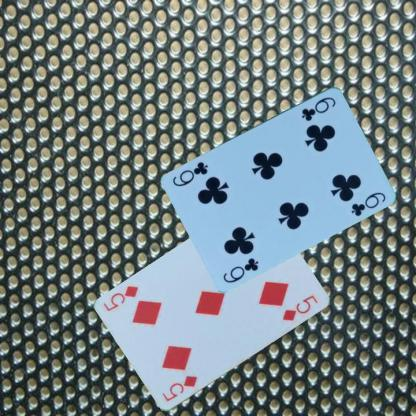5d: (159, 374, 199, 404)
6c: (220, 255, 260, 284), (299, 94, 337, 122)
